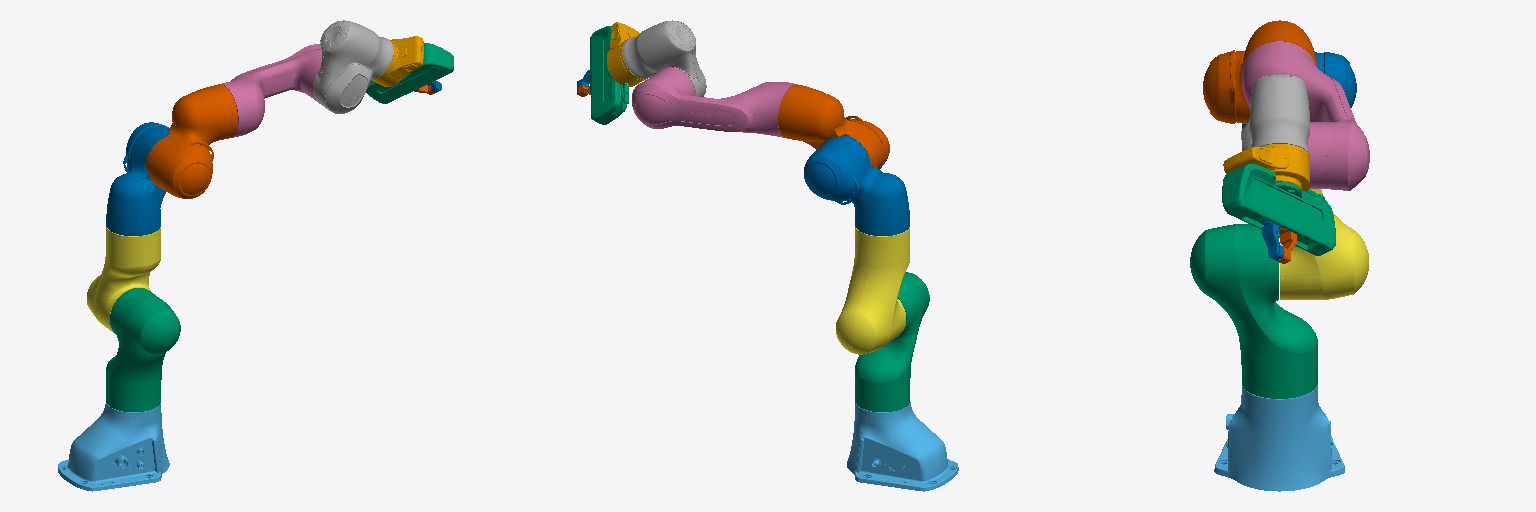
robot.urdf — fr3:
<?xml version="1.0" ?>
<!-- =================================================================================== -->
<!-- |    This document was autogenerated by xacro from /workspaces/src/franka_description/robots/fr3/fr3.urdf.xacro | -->
<!-- |    EDITING THIS FILE BY HAND IS NOT RECOMMENDED                                 | -->
<!-- =================================================================================== -->
<robot name="fr3">
  <!-- safety_distance: Minimum safety distance in [m] by which the collision volumes are expanded and which is enforced during robot motions -->
  <!-- arm_id: Namespace of the robot arm. Serves to differentiate between arms in case of multiple instances. -->
  <!-- joint_limits: description of the joint limits that comes from a YAML file. Example definition: ${xacro.load_yaml('$(find franka_description)/robots/fr3/joint_limits.yaml')} -->
  <!-- kinematics: description of the kinematics that comes from a YAML file. Example definition: ${xacro.load_yaml('$(find franka_description)/robots/fr3/kinematics.yaml')} -->
  <!-- inertials: description of the inertials that comes from a YAML file. Example definition: ${xacro.load_yaml('$(find franka_description)/robots/fr3/inertials.yaml')} -->
  <!-- dynamics: description of the dynamics that comes from a YAML file. Example definition: ${xacro.load_yaml('$(find franka_description)/robots/fr3/dynamics.yaml')} -->
  <link name="base_link">
      </link>
  <joint name="fr3_base_joint" type="fixed">
    <parent link="base_link"/>
    <child link="fr3_link0"/>
    <origin rpy="0 0 0" xyz="0 0 0"/>
  </joint>
  <!-- sub-link defining detailed meshes for collision with environment -->
  <link name="fr3_link0">
    <visual name="fr3_link0_visual">
      <geometry>
        <mesh filename="meshes/visual/link0.obj"/>
      </geometry>
    </visual>
    <collision name="fr3_link0_collision">
      <geometry>
        <mesh filename="meshes/collision/link0.obj"/>
      </geometry>
    </collision>
    <inertial>
      <origin rpy="0 0 0" xyz="-0.0172 0.0004 0.0745"/>
      <mass value="2.3966"/>
      <inertia ixx="0.009" ixy="0.0" ixz="0.002" iyy="0.0115" iyz="0.0" izz="0.0085"/>
    </inertial>
  </link>
  <!-- sub-link defining detailed meshes for collision with environment -->
  <link name="fr3_link1">
    <visual name="fr3_link1_visual">
      <geometry>
        <mesh filename="meshes/visual/link1.obj"/>
      </geometry>
    </visual>
    <collision name="fr3_link1_collision">
      <geometry>
        <mesh filename="meshes/collision/link1.obj"/>
      </geometry>
    </collision>
    <inertial>
      <origin rpy="0 0 0" xyz="0.0000004128 -0.0181251324 -0.0386035970"/>
      <mass value="2.9274653454"/>
      <inertia ixx="0.023927316485107913" ixy="1.3317903455714081e-05" ixz="-0.00011404774918616684" iyy="0.0224821613275756" iyz="-0.0019950320628240115" izz="0.006350098258530016"/>
    </inertial>
  </link>
  <joint name="fr3_joint1" type="revolute">
    <origin rpy="0 0 0" xyz="0 0 0.333"/>
    <parent link="fr3_link0"/>
    <child link="fr3_link1"/>
    <axis xyz="0 0 1"/>
    <limit effort="87.0" lower="-2.7437" upper="2.7437" velocity="2.62"/>
    <safety_controller k_position="100.0" k_velocity="40.0" soft_lower_limit="-2.7437" soft_upper_limit="2.7437"/>
    <dynamics D="1" K="7000" damping="0.003" friction="0.2" mu_coulomb="0" mu_viscous="16"/>
  </joint>
  <!-- sub-link defining detailed meshes for collision with environment -->
  <link name="fr3_link2">
    <visual name="fr3_link2_visual">
      <geometry>
        <mesh filename="meshes/visual/link2.obj"/>
      </geometry>
    </visual>
    <collision name="fr3_link2_collision">
      <geometry>
        <mesh filename="meshes/collision/link2.obj"/>
      </geometry>
    </collision>
    <inertial>
      <origin rpy="0 0 0" xyz="0.0031828864 -0.0743221644 0.0088146084"/>
      <mass value="2.9355370338"/>
      <inertia ixx="0.041938946257609425" ixy="0.00020257331521090626" ixz="0.004077784227179924" iyy="0.02514514885014724" iyz="-0.0042252158006570156" izz="0.06170214472888839"/>
    </inertial>
  </link>
  <joint name="fr3_joint2" type="revolute">
    <origin rpy="-1.570796326794897 0 0" xyz="0 0 0"/>
    <parent link="fr3_link1"/>
    <child link="fr3_link2"/>
    <axis xyz="0 0 1"/>
    <limit effort="87.0" lower="-1.7837" upper="1.7837" velocity="2.62"/>
    <safety_controller k_position="100.0" k_velocity="40.0" soft_lower_limit="-1.7837" soft_upper_limit="1.7837"/>
    <dynamics D="1" K="7000" damping="0.003" friction="0.2" mu_coulomb="0" mu_viscous="16"/>
  </joint>
  <!-- sub-link defining detailed meshes for collision with environment -->
  <link name="fr3_link3">
    <visual name="fr3_link3_visual">
      <geometry>
        <mesh filename="meshes/visual/link3.obj"/>
      </geometry>
    </visual>
    <collision name="fr3_link3_collision">
      <geometry>
        <mesh filename="meshes/collision/link3.obj"/>
      </geometry>
    </collision>
    <inertial>
      <origin rpy="0 0 0" xyz="0.0407015686 -0.0048200565 -0.0289730823"/>
      <mass value="2.2449013699"/>
      <inertia ixx="0.02410142547240885" ixy="0.002404694559042109" ixz="-0.002856269270114313" iyy="0.01974053266708178" iyz="-0.002104212683891874" izz="0.019044494482244823"/>
    </inertial>
  </link>
  <joint name="fr3_joint3" type="revolute">
    <origin rpy="1.570796326794897 0 0" xyz="0 -0.316 0"/>
    <parent link="fr3_link2"/>
    <child link="fr3_link3"/>
    <axis xyz="0 0 1"/>
    <limit effort="87.0" lower="-2.9007" upper="2.9007" velocity="2.62"/>
    <safety_controller k_position="100.0" k_velocity="40.0" soft_lower_limit="-2.9007" soft_upper_limit="2.9007"/>
    <dynamics D="1" K="7000" damping="0.003" friction="0.2" mu_coulomb="0" mu_viscous="16"/>
  </joint>
  <!-- sub-link defining detailed meshes for collision with environment -->
  <link name="fr3_link4">
    <visual name="fr3_link4_visual">
      <geometry>
        <mesh filename="meshes/visual/link4.obj"/>
      </geometry>
    </visual>
    <collision name="fr3_link4_collision">
      <geometry>
        <mesh filename="meshes/collision/link4.obj"/>
      </geometry>
    </collision>
    <inertial>
      <origin rpy="0 0 0" xyz="-0.0459100965 0.0630492960 -0.0085187868"/>
      <mass value="2.6155955791"/>
      <inertia ixx="0.03452998321913202" ixy="0.01322552265982813" ixz="0.01015142998484113" iyy="0.028881621933049058" iyz="-0.0009762833870704552" izz="0.04125471171146641"/>
    </inertial>
  </link>
  <joint name="fr3_joint4" type="revolute">
    <origin rpy="1.570796326794897 0 0" xyz="0.0825 0 0"/>
    <parent link="fr3_link3"/>
    <child link="fr3_link4"/>
    <axis xyz="0 0 1"/>
    <limit effort="87.0" lower="-3.0421" upper="-0.1518" velocity="2.62"/>
    <safety_controller k_position="100.0" k_velocity="40.0" soft_lower_limit="-3.0421" soft_upper_limit="-0.1518"/>
    <dynamics D="1" K="7000" damping="0.003" friction="0.2" mu_coulomb="0" mu_viscous="16"/>
  </joint>
  <!-- sub-link defining detailed meshes for collision with environment -->
  <link name="fr3_link5">
    <visual name="fr3_link5_visual">
      <geometry>
        <mesh filename="meshes/visual/link5.obj"/>
      </geometry>
    </visual>
    <collision name="fr3_link5_collision">
      <geometry>
        <mesh filename="meshes/collision/link5.obj"/>
      </geometry>
    </collision>
    <inertial>
      <origin rpy="0 0 0" xyz="-0.0016039605 0.0292536262 -0.0972965990"/>
      <mass value="2.3271207594"/>
      <inertia ixx="0.051610278463662895" ixy="-0.005715173387783472" ixz="-0.0035673167625872135" iyy="0.04787729713371481" iyz="0.010673985108535986" izz="0.016423625579357254"/>
    </inertial>
  </link>
  <joint name="fr3_joint5" type="revolute">
    <origin rpy="-1.570796326794897 0 0" xyz="-0.0825 0.384 0"/>
    <parent link="fr3_link4"/>
    <child link="fr3_link5"/>
    <axis xyz="0 0 1"/>
    <limit effort="12.0" lower="-2.8065" upper="2.8065" velocity="5.26"/>
    <safety_controller k_position="100.0" k_velocity="40.0" soft_lower_limit="-2.8065" soft_upper_limit="2.8065"/>
    <dynamics D="1" K="7000" damping="0.003" friction="0.2" mu_coulomb="0" mu_viscous="16"/>
  </joint>
  <!-- sub-link defining detailed meshes for collision with environment -->
  <link name="fr3_link6">
    <visual name="fr3_link6_visual">
      <geometry>
        <mesh filename="meshes/visual/link6.obj"/>
      </geometry>
    </visual>
    <collision name="fr3_link6_collision">
      <geometry>
        <mesh filename="meshes/collision/link6.obj"/>
      </geometry>
    </collision>
    <inertial>
      <origin rpy="0 0 0" xyz="0.0597131221 -0.0410294666 -0.0101692726"/>
      <mass value="1.8170376524"/>
      <inertia ixx="0.005412333594383447" ixy="0.006193456360285834" ixz="0.0014219289306117652" iyy="0.014058329545509979" iyz="-0.0013140753741120031" izz="0.016080817924212554"/>
    </inertial>
  </link>
  <joint name="fr3_joint6" type="revolute">
    <origin rpy="1.570796326794897 0 0" xyz="0 0 0"/>
    <parent link="fr3_link5"/>
    <child link="fr3_link6"/>
    <axis xyz="0 0 1"/>
    <limit effort="12.0" lower="0.5445" upper="4.5169" velocity="4.18"/>
    <safety_controller k_position="100.0" k_velocity="40.0" soft_lower_limit="0.5445" soft_upper_limit="4.5169"/>
    <dynamics D="1" K="7000" damping="0.003" friction="0.2" mu_coulomb="0" mu_viscous="16"/>
  </joint>
  <!-- sub-link defining detailed meshes for collision with environment -->
  <link name="fr3_link7">
    <visual name="fr3_link7_visual">
      <geometry>
        <mesh filename="meshes/visual/link7.obj"/>
      </geometry>
    </visual>
    <collision name="fr3_link7_collision">
      <geometry>
        <mesh filename="meshes/collision/link7.obj"/>
      </geometry>
    </collision>
    <inertial>
      <origin rpy="0 0 0" xyz="0.0045225817 0.0086261921 -0.0161633251"/>
      <mass value="0.6271432862"/>
      <inertia ixx="0.00021092389150104718" ixy="-2.433299114461931e-05" ixz="4.564480393778983e-05" iyy="0.00017718568002411474" iyz="8.744070223226438e-05" izz="5.993190599659971e-05"/>
    </inertial>
  </link>
  <joint name="fr3_joint7" type="revolute">
    <origin rpy="1.570796326794897 0 0" xyz="0.088 0 0"/>
    <parent link="fr3_link6"/>
    <child link="fr3_link7"/>
    <axis xyz="0 0 1"/>
    <limit effort="12.0" lower="-3.0159" upper="3.0159" velocity="5.26"/>
    <safety_controller k_position="100.0" k_velocity="40.0" soft_lower_limit="-3.0159" soft_upper_limit="3.0159"/>
    <dynamics D="1" K="7000" damping="0.003" friction="0.2" mu_coulomb="0" mu_viscous="16"/>
  </joint>
  <link name="fr3_link8"/>
  <joint name="fr3_joint8" type="fixed">
    <origin rpy="0 0 0" xyz="0 0 0.107"/>
    <parent link="fr3_link7"/>
    <child link="fr3_link8"/>
  </joint>
  <joint name="fr3_hand_joint" type="fixed">
    <parent link="fr3_link8"/>
    <child link="fr3_hand"/>
    <origin rpy="0 0 -0.7853981633974483" xyz="0 0 0"/>
  </joint>
  <!-- sub-link defining detailed meshes for collision with environment -->
  <link name="fr3_hand">
    <visual name="fr3_hand_visual">
      <geometry>
        <mesh filename="meshes/visual/hand.obj"/>
      </geometry>
    </visual>
    <collision name="fr3_hand_collision">
      <geometry>
        <mesh filename="meshes/collision/hand.obj"/>
      </geometry>
    </collision>
    <inertial>
      <origin rpy="0 0 0" xyz="-0.0000376 0.0119128 0.0207260"/>
      <mass value="0.6544"/>
      <inertia ixx="0.00186" ixy="0.0" ixz="0.0" iyy="0.0003" iyz="-2e-05" izz="0.00174"/>
    </inertial>
  </link>
  <!-- Define the hand_tcp frame -->
  <link name="fr3_hand_tcp"/>
  <joint name="fr3_hand_tcp_joint" type="fixed">
    <origin rpy="0 0 0" xyz="0 0 0.1034"/>
    <parent link="fr3_hand"/>
    <child link="fr3_hand_tcp"/>
  </joint>
  <link name="fr3_leftfinger">
    <visual name="fr3_leftfinger_visual">
      <geometry>
        <mesh filename="meshes/visual/finger.obj"/>
      </geometry>
    </visual>
    <collision name="fr3_leftfinger_collision">
      <geometry>
        <mesh filename="meshes/collision/finger.obj"/>
      </geometry>
    </collision>
    <inertial>
      <origin rpy="0 0 0" xyz="0 0.0152850 0.0219675"/>
      <mass value="0.0291"/>
      <inertia ixx="8.49e-06" ixy="0.0" ixz="0.0" iyy="8.53e-06" iyz="-1.06e-06" izz="1.77e-06"/>
    </inertial>
  </link>
  <link name="fr3_rightfinger">
    <visual name="fr3_rightfinger_visual">
      <origin rpy="0 0 0" xyz="0 0 0"/>
      <geometry>
        <mesh filename="meshes/visual/finger.obj"/>
      </geometry>
    </visual>
    <collision name="fr3_rightfinger_collision">
      <origin rpy="0 0 0" xyz="0 0 0"/>
      <geometry>
        <mesh filename="meshes/collision/finger.obj"/>
      </geometry>
    </collision>
    <inertial>
      <origin rpy="0 0 0" xyz="0 0.0152850 0.0219675"/>
      <mass value="0.0291"/>
      <inertia ixx="8.49e-06" ixy="0.0" ixz="0.0" iyy="8.53e-06" iyz="-1.06e-06" izz="1.77e-06"/>
    </inertial>
  </link>
  <joint name="fr3_finger_joint1" type="prismatic">
    <parent link="fr3_hand"/>
    <child link="fr3_leftfinger"/>
    <origin rpy="0 0 0" xyz="0 0 0.0584"/>
    <axis xyz="0 1 0"/>
    <limit effort="100" lower="0.0" upper="0.04" velocity="0.2"/>
    <dynamics damping="0.3"/>
  </joint>
  <joint name="fr3_finger_joint2" type="prismatic">
    <parent link="fr3_hand"/>
    <child link="fr3_rightfinger"/>
    <origin rpy="0 0 3.141592653589793" xyz="0 0 0.0584"/>
    <axis xyz="0 1 0"/>
    <limit effort="100" lower="0.0" upper="0.04" velocity="0.2"/>
    <dynamics damping="0.3"/>
  </joint>
</robot>

--- What the picture shows (computed from the rendered views, not written in the file) ---
Views: 3 orthographic renders of the robot side by side, from view 1: azimuth 30°, elevation 25°; view 2: azimuth 150°, elevation 25°; view 3: azimuth 270°, elevation 25°.
Robot: fr3 — 14 links, 13 joints (7 revolute, 2 prismatic, 4 fixed); root link base_link; default pose: all joints at 0 but 2 set to mid-range because 0 is outside their limits (fr3_joint4 = -1.6, fr3_joint6 = 2.53).
Links seen in each view (by area): view 1: fr3_link0, fr3_link1, fr3_link4, fr3_link6, fr3_link3, fr3_link5, fr3_link2, fr3_hand, fr3_link7; view 2: fr3_link0, fr3_link5, fr3_link2, fr3_link3, fr3_link1, fr3_link4, fr3_link6, fr3_hand, fr3_link7; view 3: fr3_link1, fr3_link0, fr3_link5, fr3_hand, fr3_link2, fr3_link6, fr3_link4, fr3_link7, fr3_link3, fr3_leftfinger.
Boxes of the visible links, <box> form: fr3_link0: <box>58,403,169,491</box>; fr3_link1: <box>106,288,180,411</box>; fr3_link4: <box>146,84,237,198</box>; fr3_link6: <box>313,20,393,113</box>; fr3_link3: <box>106,122,170,235</box>; fr3_link5: <box>222,44,321,137</box>; fr3_link2: <box>87,227,160,333</box>; fr3_hand: <box>366,43,453,103</box>; fr3_link7: <box>371,36,423,86</box>; fr3_link0: <box>847,402,958,491</box>; fr3_link5: <box>632,67,794,137</box>; fr3_link2: <box>836,227,909,354</box>; fr3_link3: <box>804,135,909,235</box>; fr3_link1: <box>855,272,929,411</box>; fr3_link4: <box>778,84,889,169</box>; fr3_link6: <box>622,20,706,96</box>; fr3_hand: <box>590,26,628,124</box>; fr3_link7: <box>607,22,645,86</box>; fr3_link1: <box>1190,224,1317,398</box>; fr3_link0: <box>1214,385,1344,491</box>; fr3_link5: <box>1242,41,1369,190</box>; fr3_hand: <box>1222,163,1335,255</box>; fr3_link2: <box>1280,189,1368,299</box>; fr3_link6: <box>1241,74,1309,154</box>; fr3_link4: <box>1203,20,1317,123</box>; fr3_link7: <box>1223,144,1309,191</box>; fr3_link3: <box>1242,52,1356,128</box>; fr3_leftfinger: <box>1262,221,1283,260</box>.
Bounding box of the posed robot: 0.8595 × 0.2593 × 0.8578 m (x, y, z).
Meshes: 10 distinct files referenced, 11 mesh visuals loaded (10 OBJ).
